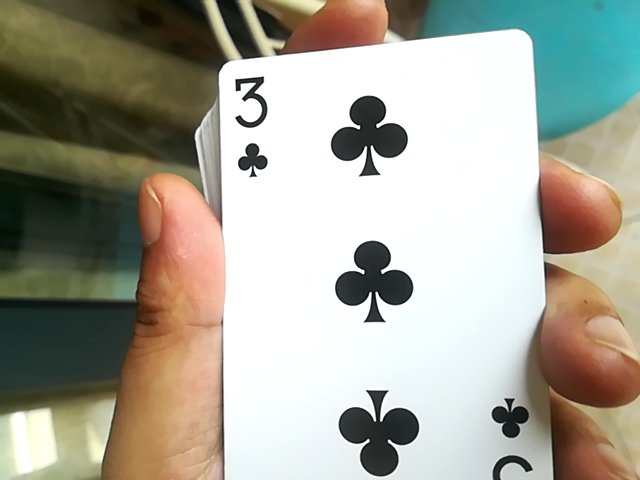mh 3: (210, 34, 547, 473)
